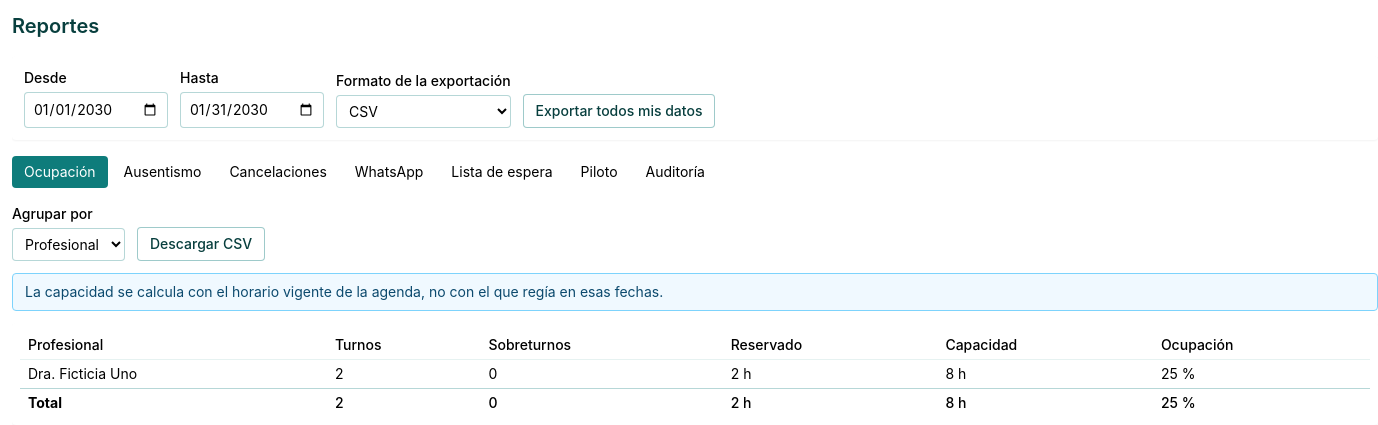
Test case: ReportsPage › WhatsApp: sin envíos muestra el mensaje de vacío
Click the tab "WhatsApp": (389, 172) [343,156,435,188]
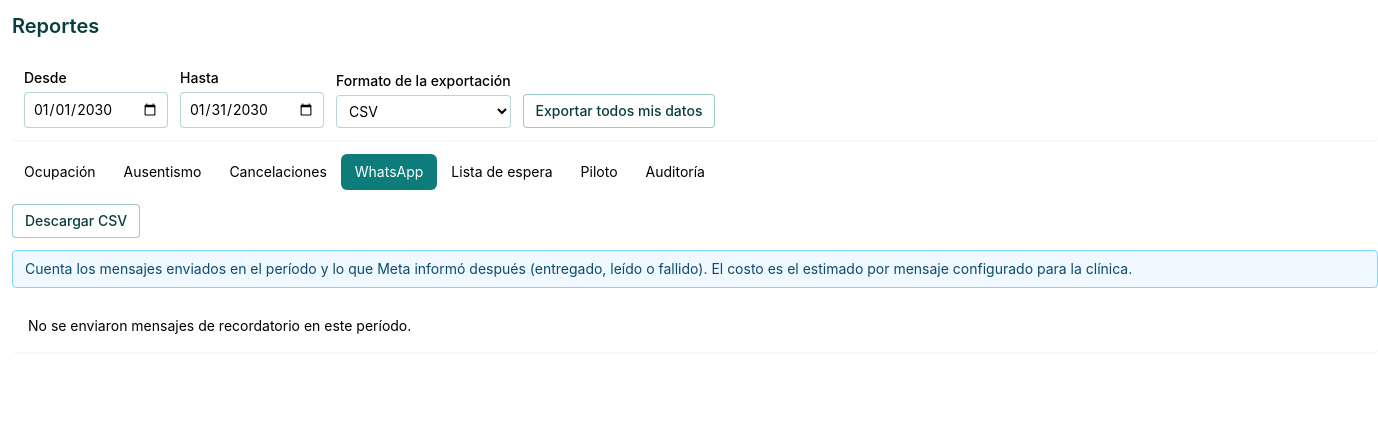
Expected: the text "No se enviaron mensajes de recordatorio en este período." is shown, [12,300,1377,352]
Expected: the table is gone
